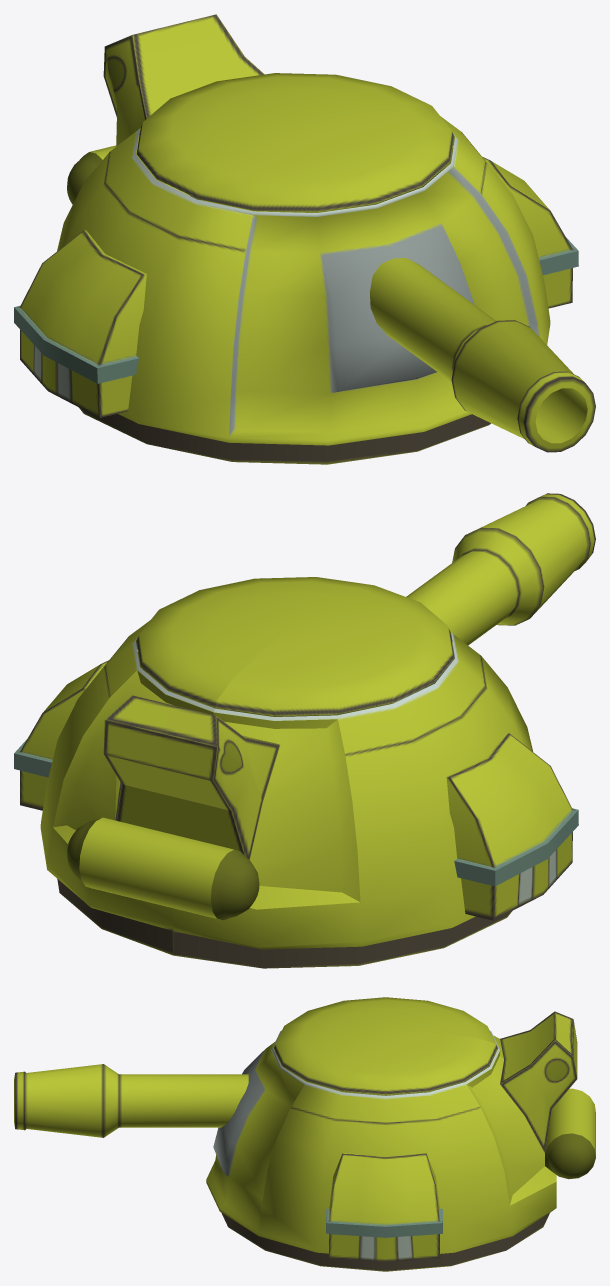
Rendered from Tank1_Tower.fbx.
The picture shows the model from 3 angles, top to bottom: view 1: azimuth 30°, elevation 25°; view 2: azimuth 150°, elevation 25°; view 3: azimuth 270°, elevation 25°; orthographic projection. The views are drawn at different scales.
Parts seen in each view (by area): view 1: Tower; view 2: Tower; view 3: Tower.
Part boxes in pixels (left/top/right/bottom): Tower: left=14, top=14, right=595, bottom=464; Tower: left=14, top=493, right=595, bottom=968; Tower: left=14, top=997, right=595, bottom=1271.
Bounding box in the file's own units: 2.81 × 1.33 × 4.02.
